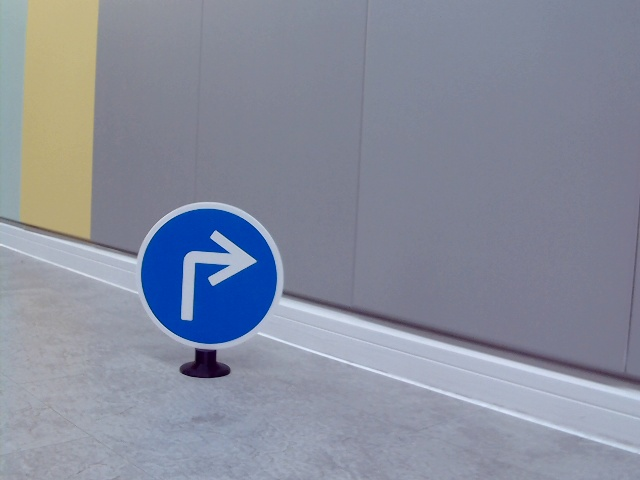turn_right: (178, 228, 254, 319)
